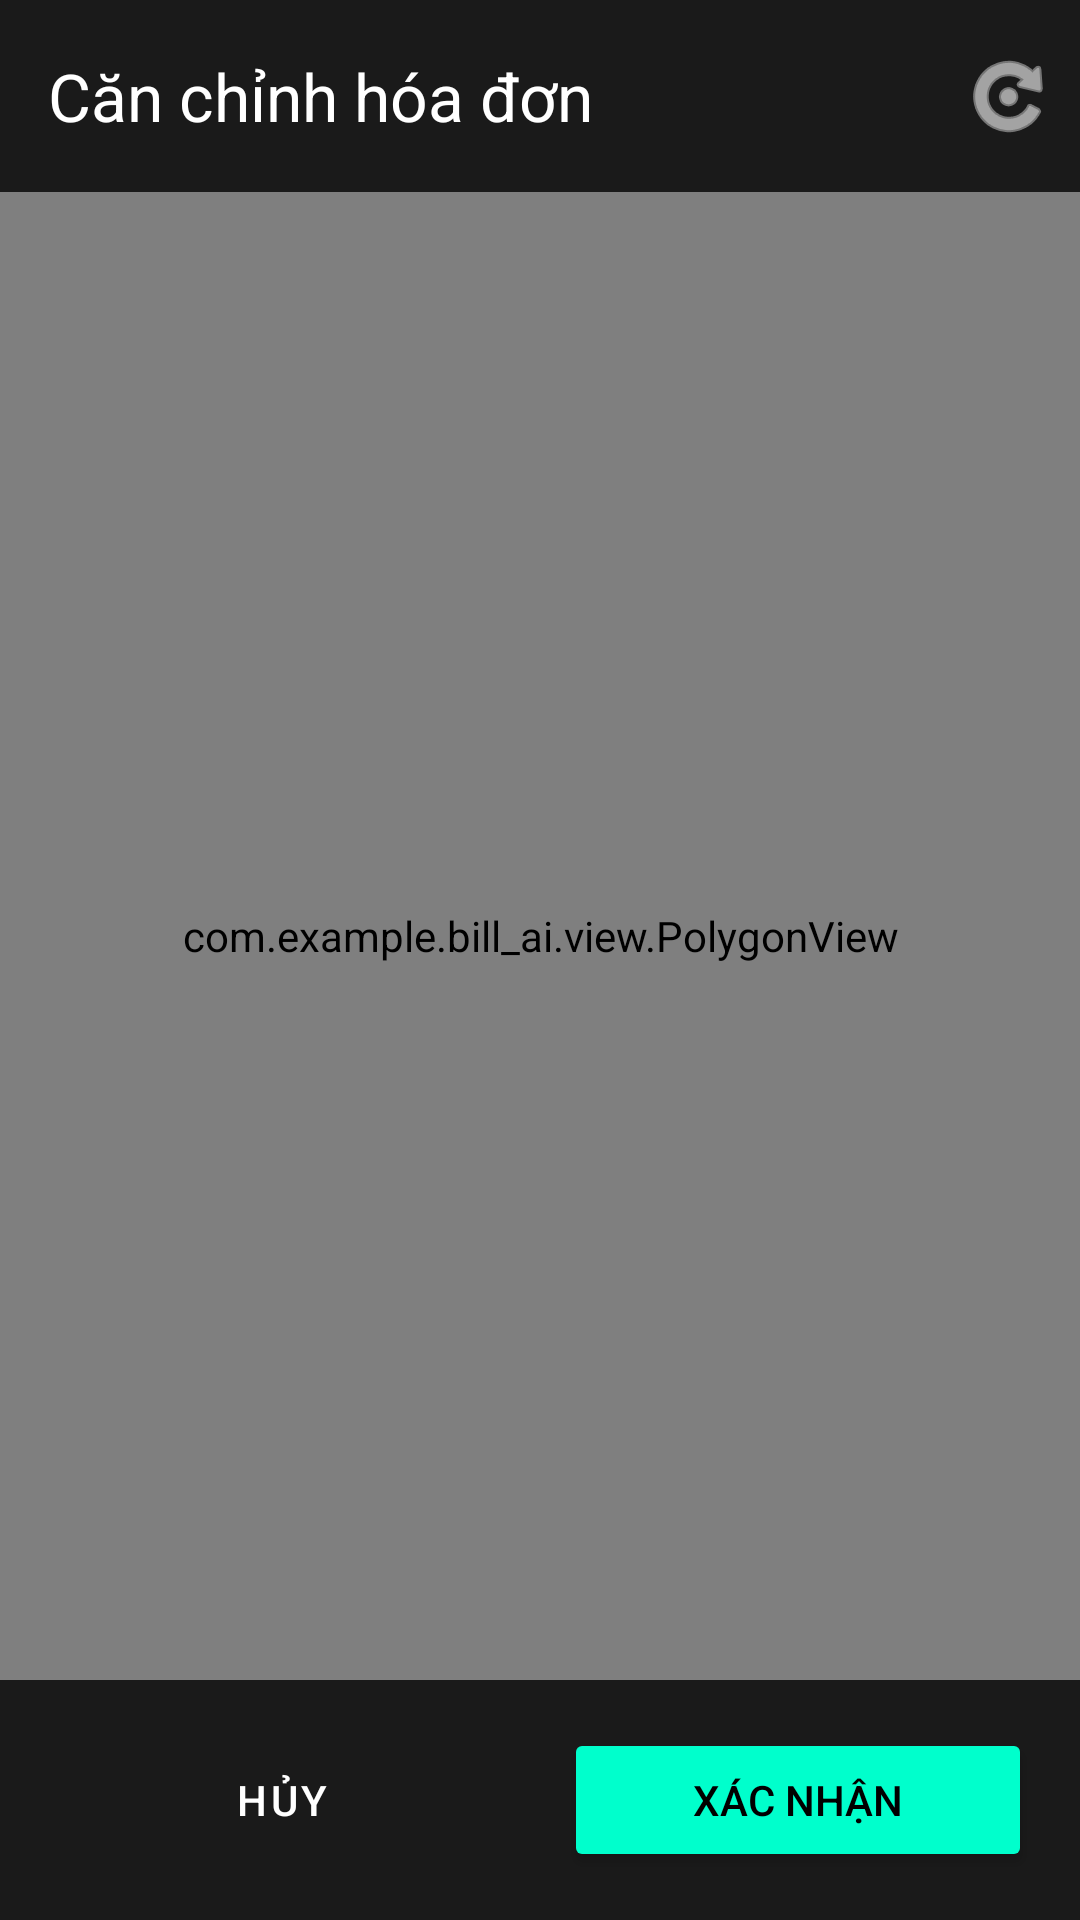

Icons on this 1080 × 1920 Android screen, each with its box as Rect(x1, y1, x2, y2):
rotate: Rect(973, 61, 1043, 132)
